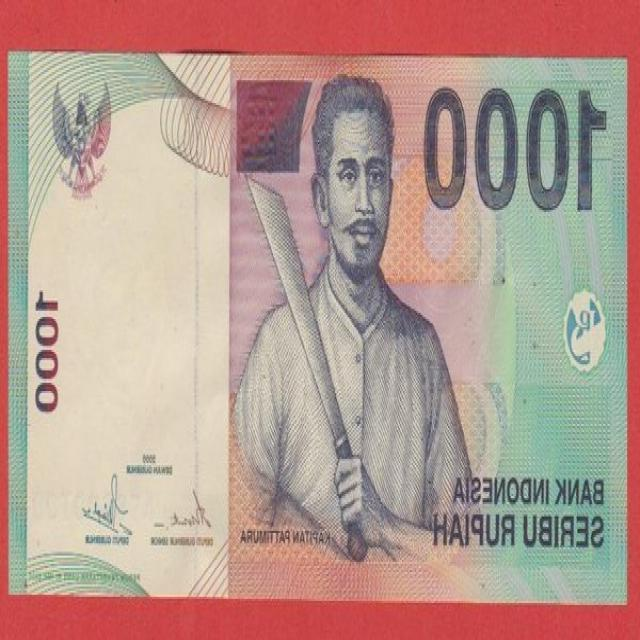seribu rupiah: (8, 49, 626, 602)
